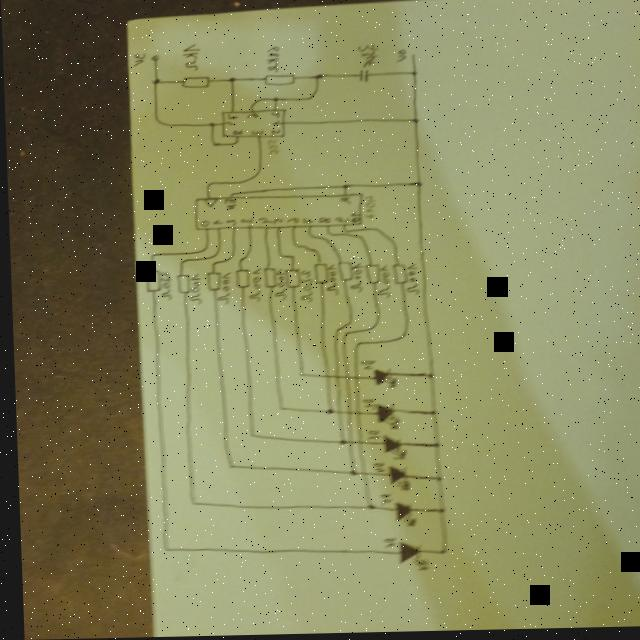capacitor: (356, 70, 368, 84)
crossover: (350, 440, 360, 449), (328, 374, 336, 383), (349, 410, 357, 419), (319, 374, 327, 382), (337, 375, 345, 383), (347, 375, 355, 383), (340, 411, 348, 419), (330, 410, 338, 418), (355, 472, 363, 480), (342, 441, 348, 447)
diode: (391, 541, 424, 573), (371, 404, 396, 431), (378, 436, 403, 462), (383, 466, 406, 493), (389, 503, 412, 529), (369, 369, 394, 390)
junction: (366, 228, 388, 240), (237, 174, 256, 184), (316, 238, 332, 248), (389, 333, 404, 343), (152, 118, 168, 127), (310, 73, 322, 83), (154, 545, 166, 554), (183, 500, 193, 510), (359, 504, 370, 513), (148, 78, 160, 86), (305, 93, 316, 101), (221, 464, 232, 472), (248, 99, 258, 107), (424, 410, 434, 418), (407, 118, 418, 125), (410, 182, 421, 189), (304, 249, 316, 255), (225, 77, 235, 84), (202, 181, 212, 188), (432, 551, 443, 557), (206, 122, 214, 130), (303, 233, 311, 241), (338, 185, 348, 191), (421, 374, 431, 380), (427, 443, 437, 449), (429, 478, 439, 484), (431, 509, 441, 515), (242, 433, 252, 439), (175, 259, 185, 265), (193, 248, 203, 254), (343, 470, 351, 477), (320, 409, 328, 416), (287, 243, 295, 250), (206, 253, 214, 260), (293, 372, 300, 379), (207, 261, 214, 268), (269, 98, 277, 104), (229, 141, 237, 147), (273, 406, 281, 412), (350, 342, 358, 348), (365, 326, 373, 332), (221, 256, 229, 262), (354, 236, 362, 242), (207, 141, 214, 147), (333, 441, 340, 447), (342, 321, 349, 327), (273, 253, 280, 259), (232, 259, 239, 265), (240, 253, 247, 259), (146, 252, 152, 259), (408, 72, 415, 78), (338, 230, 348, 234), (338, 332, 344, 338), (322, 233, 330, 237), (285, 256, 292, 260), (226, 193, 232, 197), (330, 329, 336, 333)
resistor: (261, 74, 294, 87), (387, 264, 406, 286), (140, 269, 157, 293), (178, 76, 209, 89), (230, 269, 247, 290), (361, 264, 377, 286), (333, 262, 350, 282), (281, 269, 298, 289), (309, 264, 324, 286), (258, 267, 273, 289), (172, 274, 187, 295), (202, 272, 217, 292)
terminal: (148, 54, 158, 64), (408, 54, 414, 60)
text: (354, 44, 378, 69), (179, 43, 199, 71), (243, 269, 259, 302), (372, 267, 387, 301), (322, 265, 337, 298), (401, 265, 416, 297), (269, 270, 284, 302), (263, 46, 280, 74), (345, 264, 361, 293), (296, 271, 310, 303), (185, 274, 199, 306), (214, 273, 228, 305), (156, 272, 169, 301), (360, 197, 373, 220), (263, 139, 278, 156), (130, 53, 144, 67), (373, 494, 387, 507), (392, 51, 405, 65), (377, 538, 391, 551), (219, 199, 234, 211), (355, 361, 371, 371), (361, 431, 376, 441), (357, 399, 372, 409), (347, 212, 358, 225), (366, 464, 380, 474), (254, 217, 269, 226), (313, 218, 328, 225), (336, 198, 349, 206), (298, 218, 312, 225), (283, 218, 297, 225), (331, 218, 347, 224), (269, 218, 281, 226), (236, 218, 251, 224), (247, 130, 262, 136), (196, 220, 208, 227), (243, 114, 257, 120), (229, 130, 242, 136), (222, 220, 233, 227), (225, 114, 236, 121), (209, 220, 221, 226), (268, 121, 280, 127), (268, 112, 278, 119), (268, 130, 278, 136), (222, 122, 232, 128)
